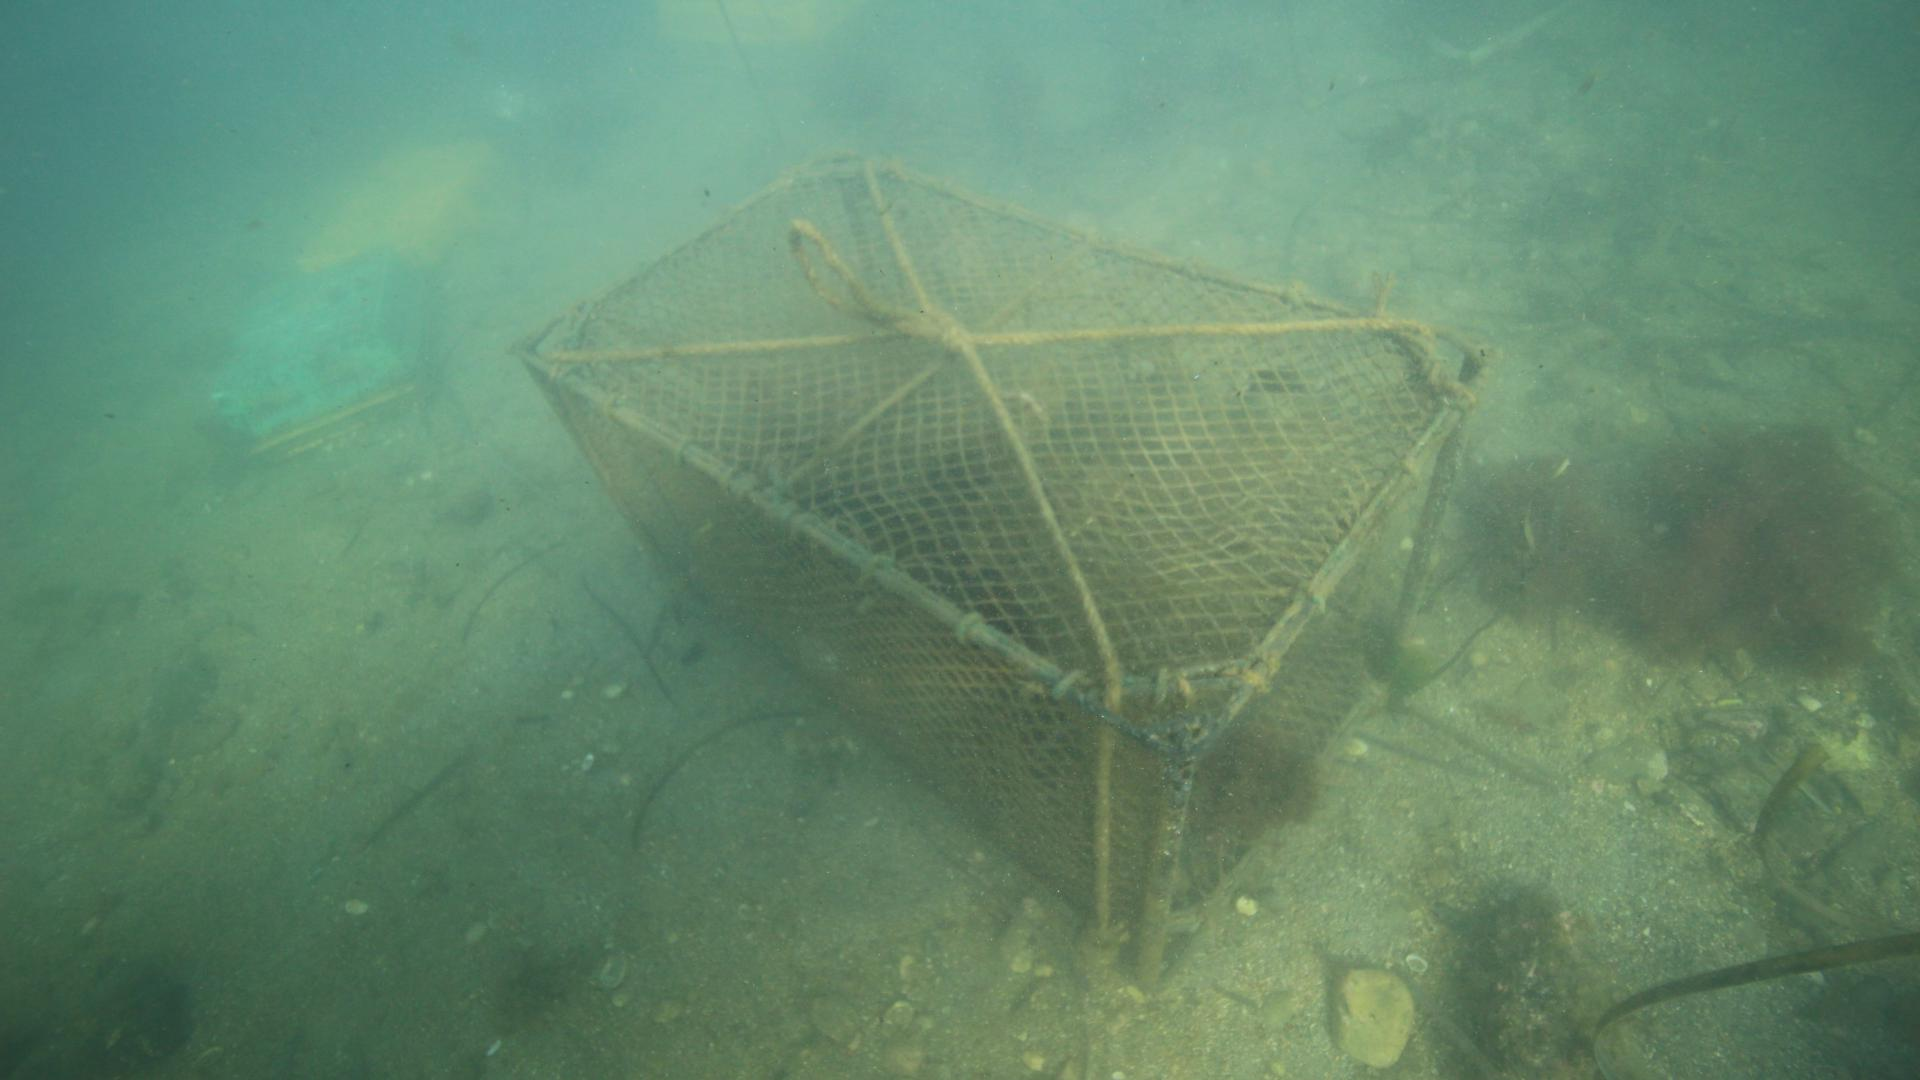rectangular fish trap: (512, 152, 1481, 988)
